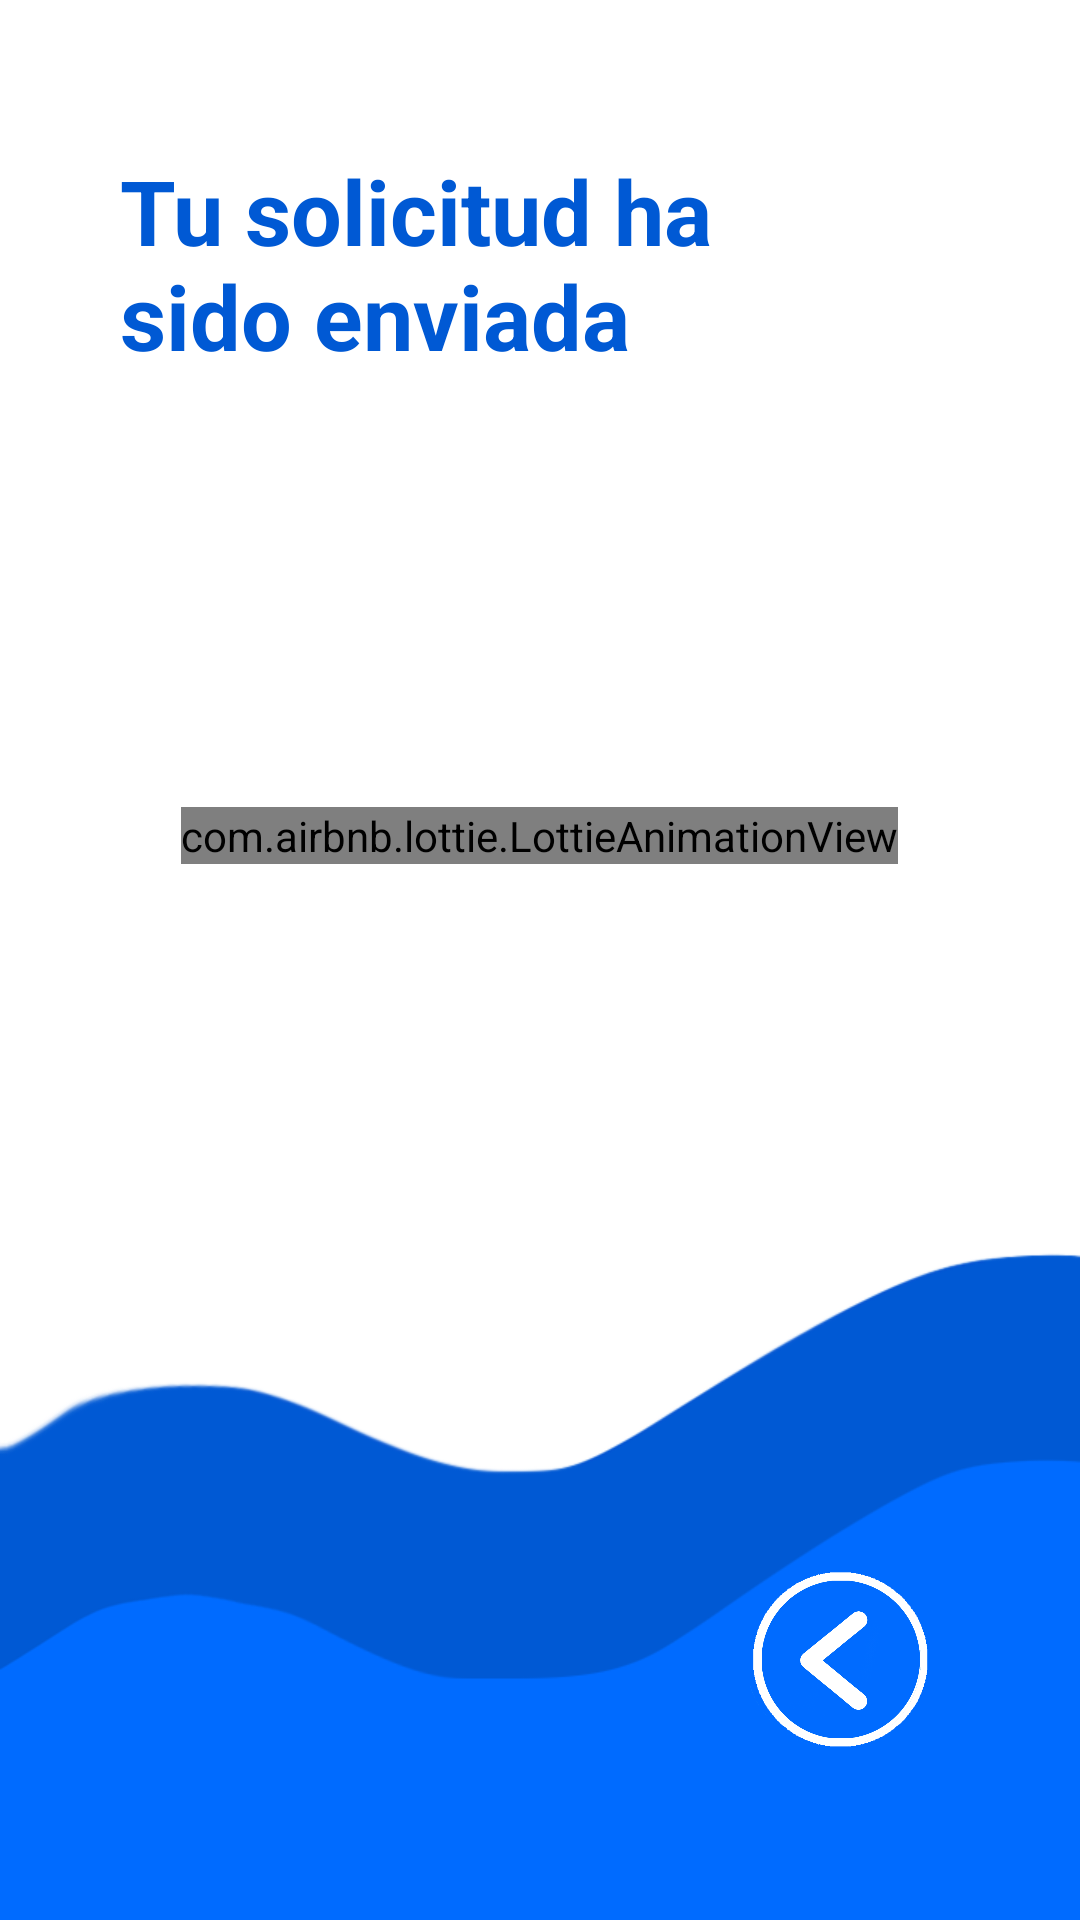

Icon click points for this 1080*1920 phone screenshot, format (x,y):
puntero: (840,1659)
